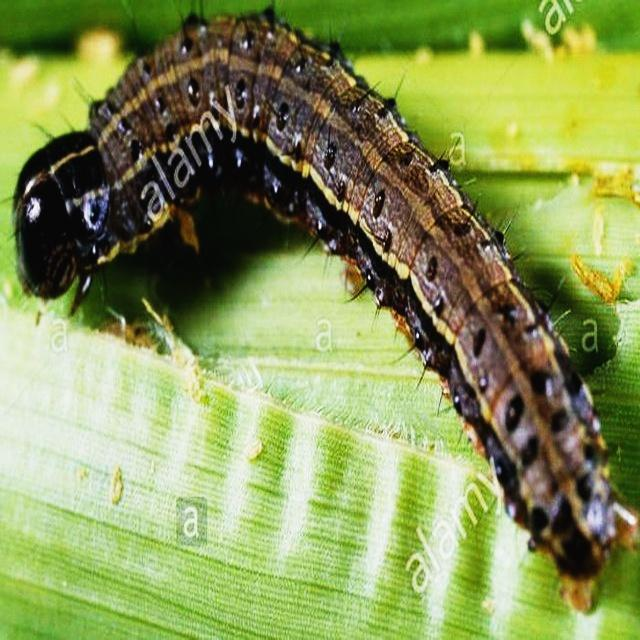Plaga: (18, 11, 615, 574)
